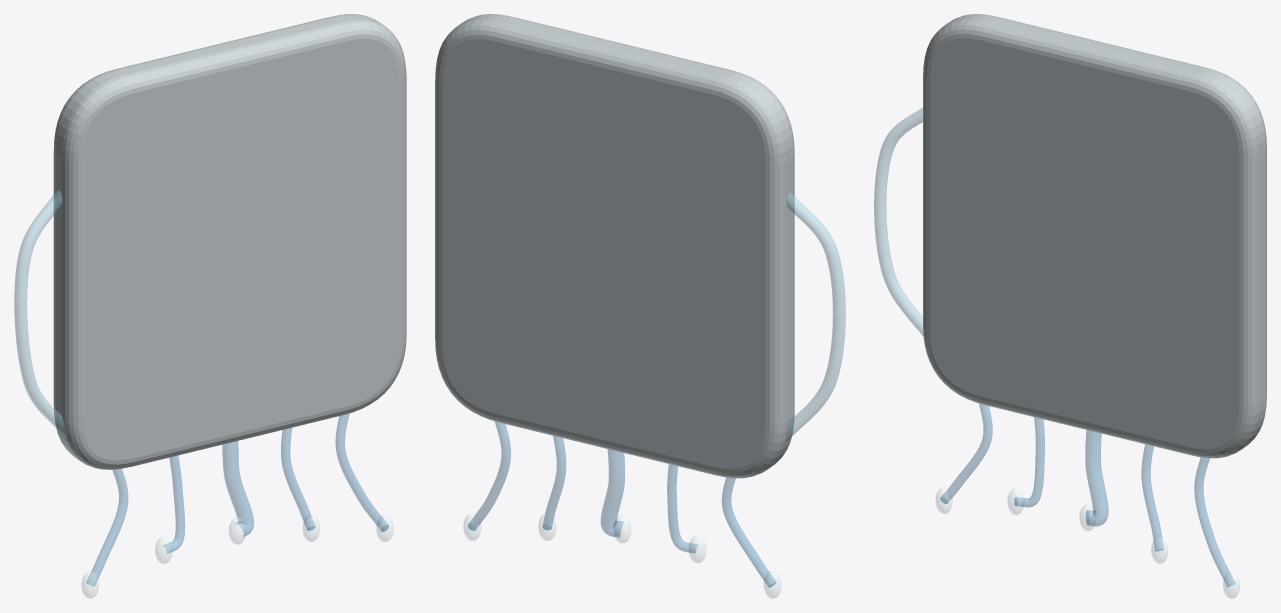
The picture shows the model from 3 angles, left to right: view 1: azimuth 30°, elevation 25°; view 2: azimuth 150°, elevation 25°; view 3: azimuth 330°, elevation 25°; orthographic projection. The views are drawn at different scales.
Visible parts, largest first — view 1: water-root-panel-shell, side-root-tendril, panel-root-2, panel-root-4, panel-root-0, panel-root-3, panel-root-1; view 2: water-root-panel-shell, side-root-tendril, panel-root-2, panel-root-0, panel-root-4, panel-root-1, panel-root-3; view 3: water-root-panel-shell, side-root-tendril, panel-root-2, panel-root-4, panel-root-0, panel-root-3, panel-root-1.
Part boxes in pixels (bbox=[...]): water-root-panel-shell: bbox=[53, 14, 406, 469]; side-root-tendril: bbox=[14, 189, 63, 434]; panel-root-2: bbox=[222, 441, 253, 536]; panel-root-4: bbox=[335, 413, 388, 531]; panel-root-0: bbox=[86, 469, 127, 586]; panel-root-3: bbox=[281, 428, 315, 530]; panel-root-1: bbox=[163, 456, 184, 553]; water-root-panel-shell: bbox=[435, 14, 794, 478]; side-root-tendril: bbox=[786, 193, 845, 441]; panel-root-2: bbox=[601, 449, 624, 537]; panel-root-0: bbox=[722, 477, 776, 587]; panel-root-4: bbox=[468, 421, 510, 530]; panel-root-1: bbox=[667, 464, 697, 553]; panel-root-3: bbox=[542, 436, 565, 530]; water-root-panel-shell: bbox=[923, 14, 1266, 458]; side-root-tendril: bbox=[874, 108, 923, 336]; panel-root-2: bbox=[1085, 430, 1108, 526]; panel-root-4: bbox=[1194, 457, 1235, 586]; panel-root-0: bbox=[940, 403, 992, 503]; panel-root-3: bbox=[1141, 444, 1163, 551]; panel-root-1: bbox=[1014, 417, 1044, 507].
Size of the model in its own units: 2.46 by 3.16 by 0.24.
